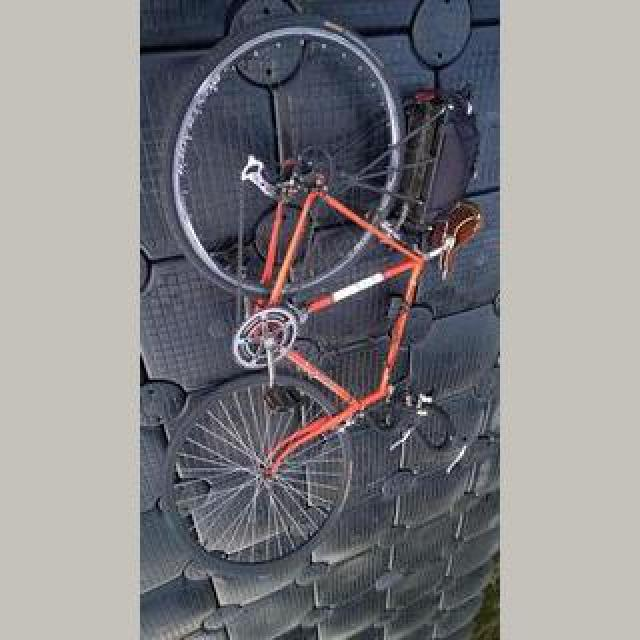Person: (162, 13, 498, 611)
